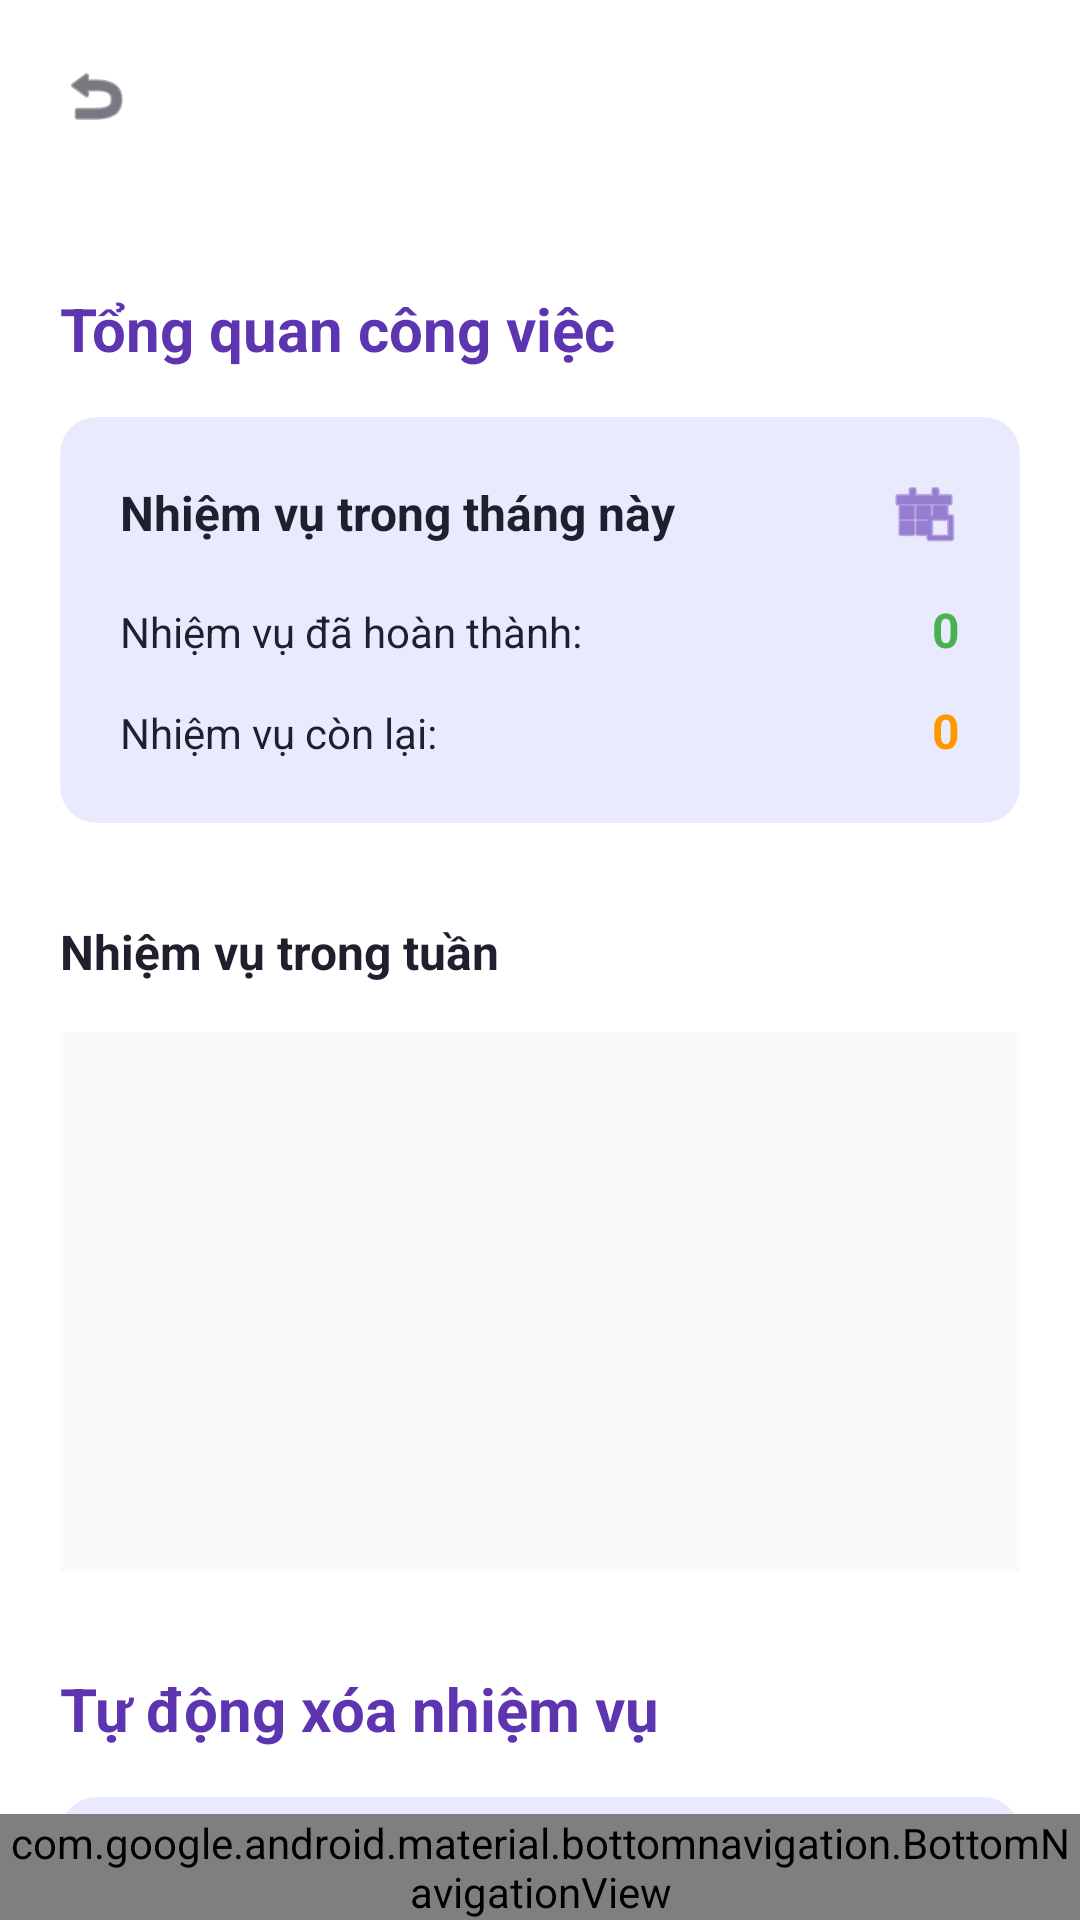

Locate icon controls on the screen. Image size 1080x1920, boxes as (x1, y1, x2, y2).
revert: (71, 73, 123, 120)
Xem lịch sử tháng: (895, 487, 954, 541)
